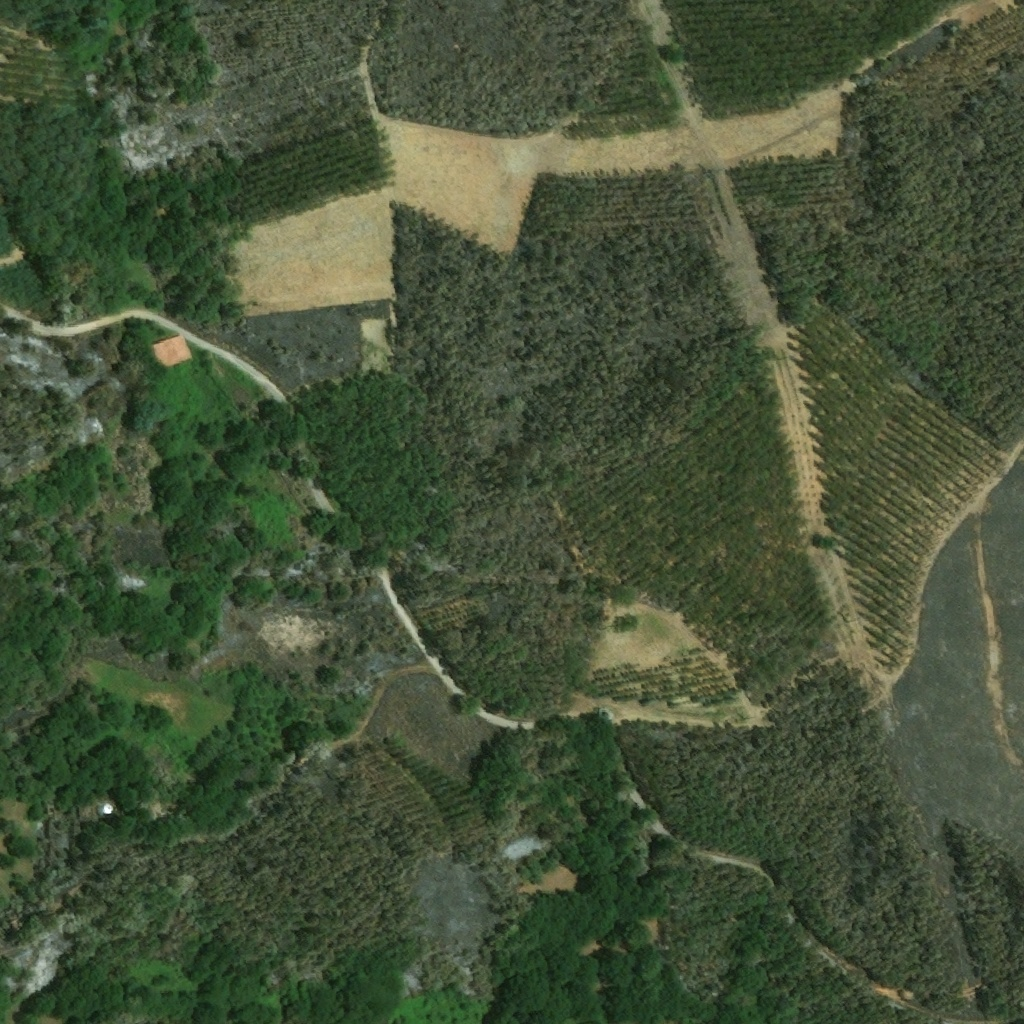0 no-damage: (149, 335, 193, 369)
